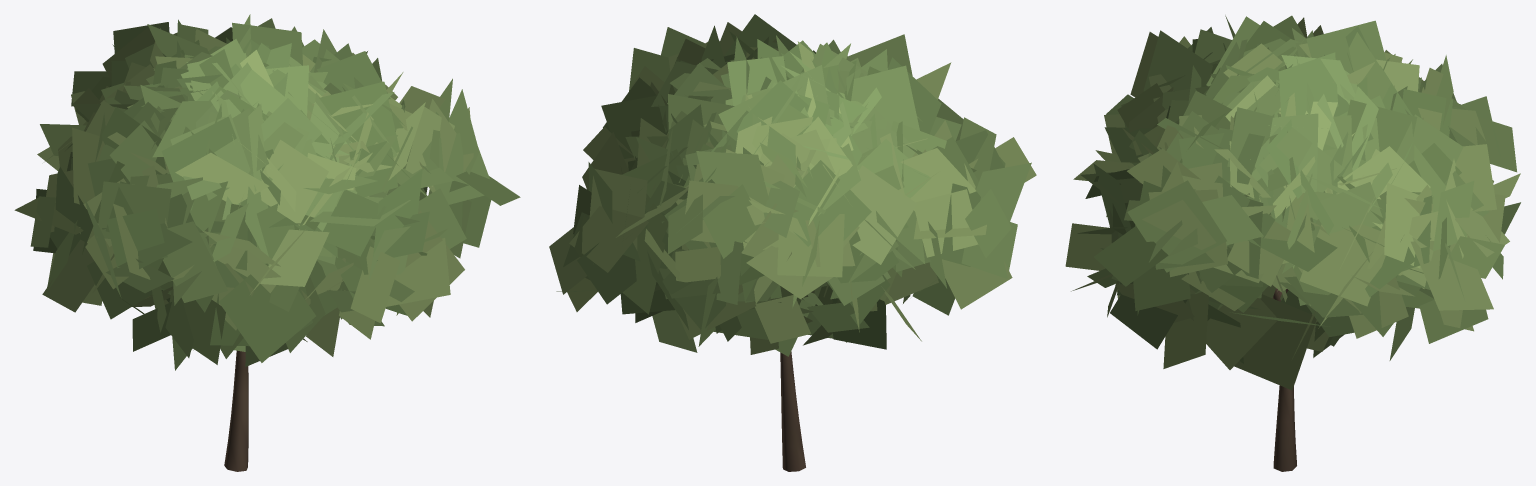
File: broadleaf_1.glb
The picture shows the model from 3 angles, left to right: view 1: azimuth 30°, elevation 25°; view 2: azimuth 150°, elevation 25°; view 3: azimuth 270°, elevation 25°; orthographic projection. The views are drawn at different scales.
Parts seen in each view (by area): view 1: broadleaf_1; view 2: broadleaf_1; view 3: broadleaf_1.
Part boxes in pixels (x1,y1,x2,y2): broadleaf_1: [14, 14, 520, 471]; broadleaf_1: [549, 14, 1036, 471]; broadleaf_1: [1065, 15, 1520, 471].
Size of the model in its own units: 1 by 1 by 0.9495.
